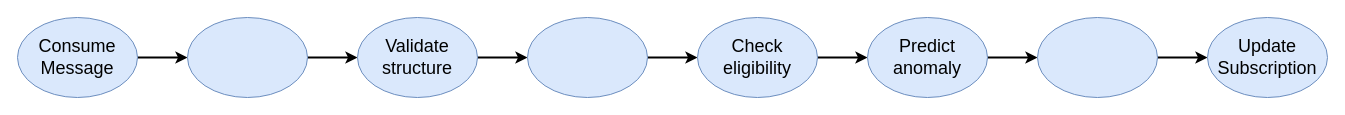
This 1345x115 diagram has some shape labels left out. Each missing label, with the centre of its shape:
Convert to JSON: [247,57]
Dispatch to Erable: [1097,57]
Retrieve subscription: [587,57]
